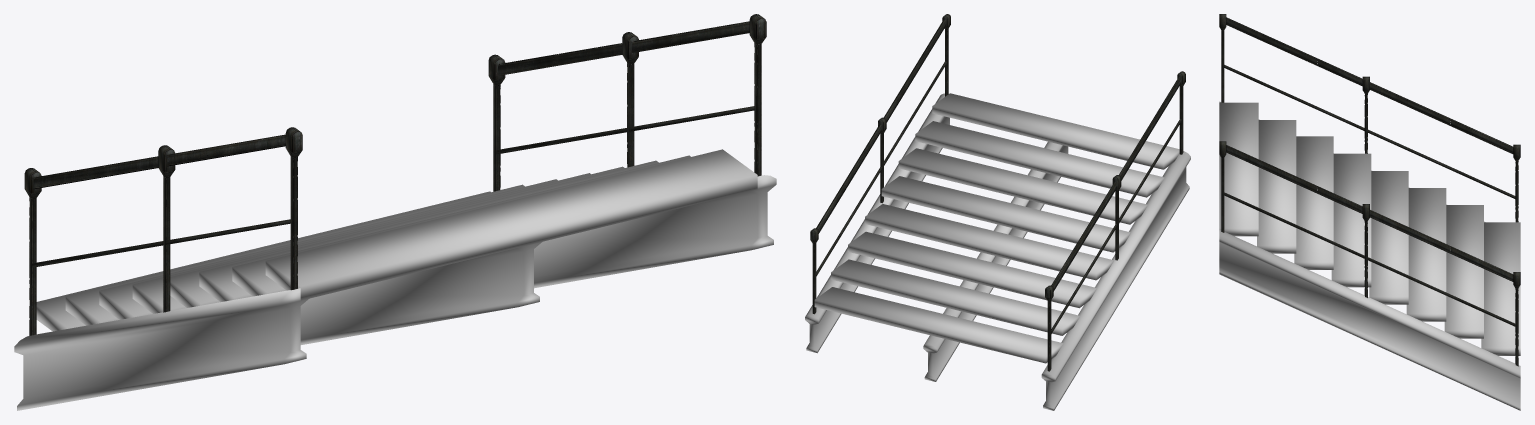
The model's file is engineroom_balcony_stairs.DAE.
3 views of the same model, side by side, from view 1: azimuth 30°, elevation 25°; view 2: azimuth 150°, elevation 25°; view 3: azimuth 270°, elevation 25° (orthographic). The views are drawn at different scales.
Parts seen in each view (by area): view 1: balcony_straight_metal019, balcony_straight_rail001; view 2: balcony_straight_metal019, balcony_straight_rail001; view 3: balcony_straight_metal019, balcony_straight_rail001.
Boxes of the visible parts, <box> form: balcony_straight_metal019: <box>14,149,776,410</box>; balcony_straight_rail001: <box>24,14,766,335</box>; balcony_straight_metal019: <box>805,93,1190,410</box>; balcony_straight_rail001: <box>810,14,1185,371</box>; balcony_straight_metal019: <box>1219,101,1520,410</box>; balcony_straight_rail001: <box>1219,14,1520,366</box>.
Bounding box in the file's own units: 4.27 × 3.89 × 4.
